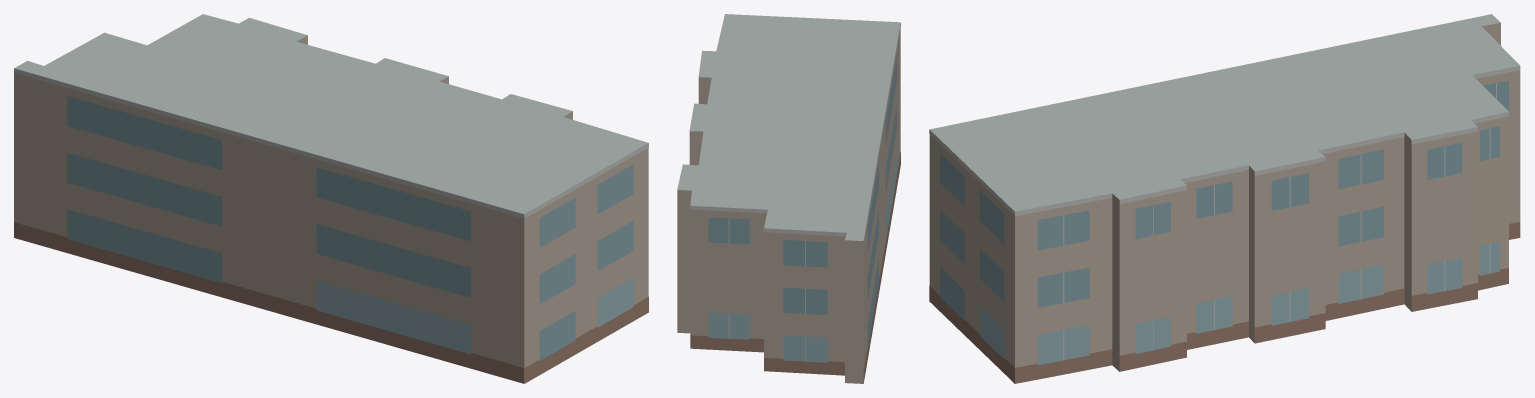
The model's file is survey-upis-33046396.glb.
The picture shows the model from 3 angles, left to right: view 1: azimuth 30°, elevation 25°; view 2: azimuth 150°, elevation 25°; view 3: azimuth 270°, elevation 25°; orthographic projection. The views are drawn at different scales.
Visible parts, largest first — view 1: survey-upis-33046396.tmp; view 2: survey-upis-33046396.tmp; view 3: survey-upis-33046396.tmp.
Part boxes in pixels (<box>): survey-upis-33046396.tmp: <box>14,14,648,383</box>; survey-upis-33046396.tmp: <box>677,14,900,383</box>; survey-upis-33046396.tmp: <box>929,14,1520,383</box>.
Bounding box in the file's own units: 22.58 × 9.15 × 28.49.
